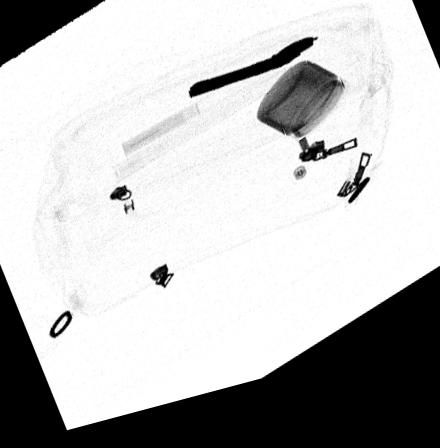Gun: (188, 53, 315, 108)
